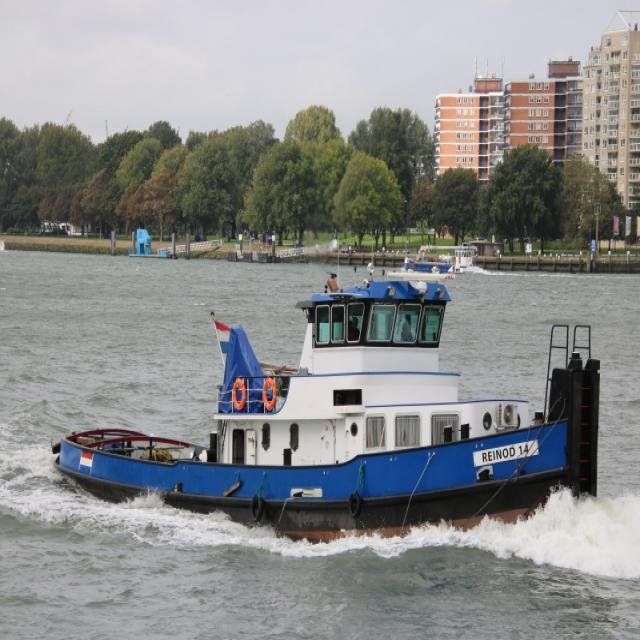tugboat: (44, 237, 611, 560)
